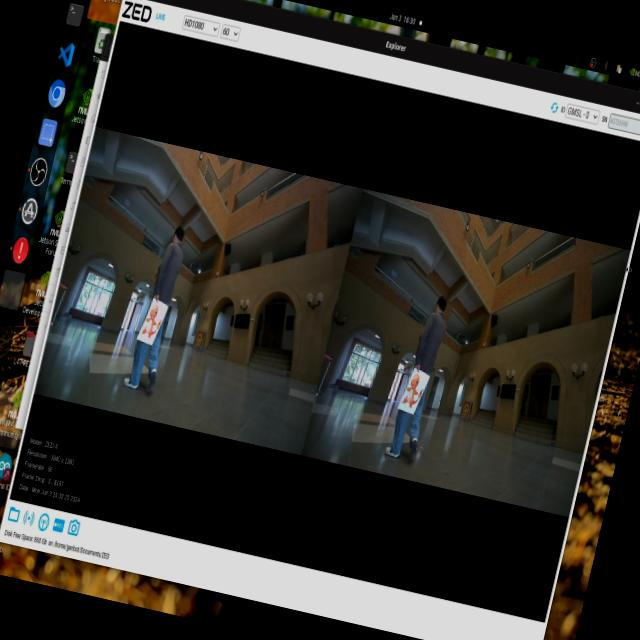red: (400, 366, 430, 411), (137, 304, 165, 345)
